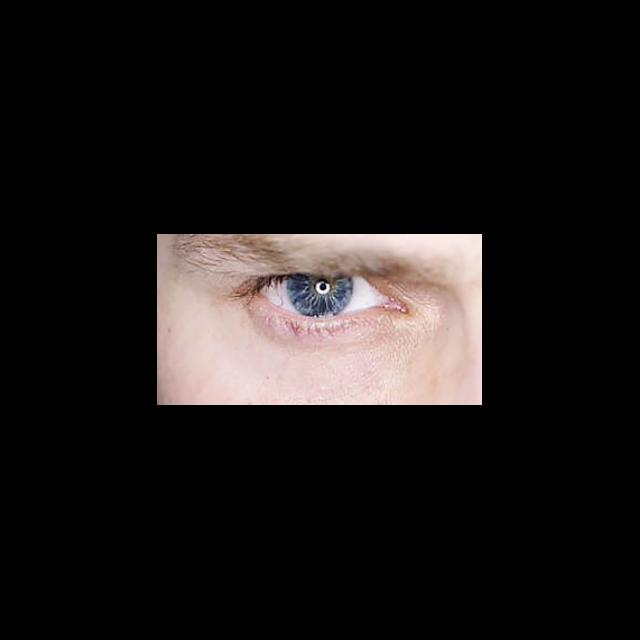eye: (260, 274, 385, 317)
iris: (288, 275, 353, 315)
